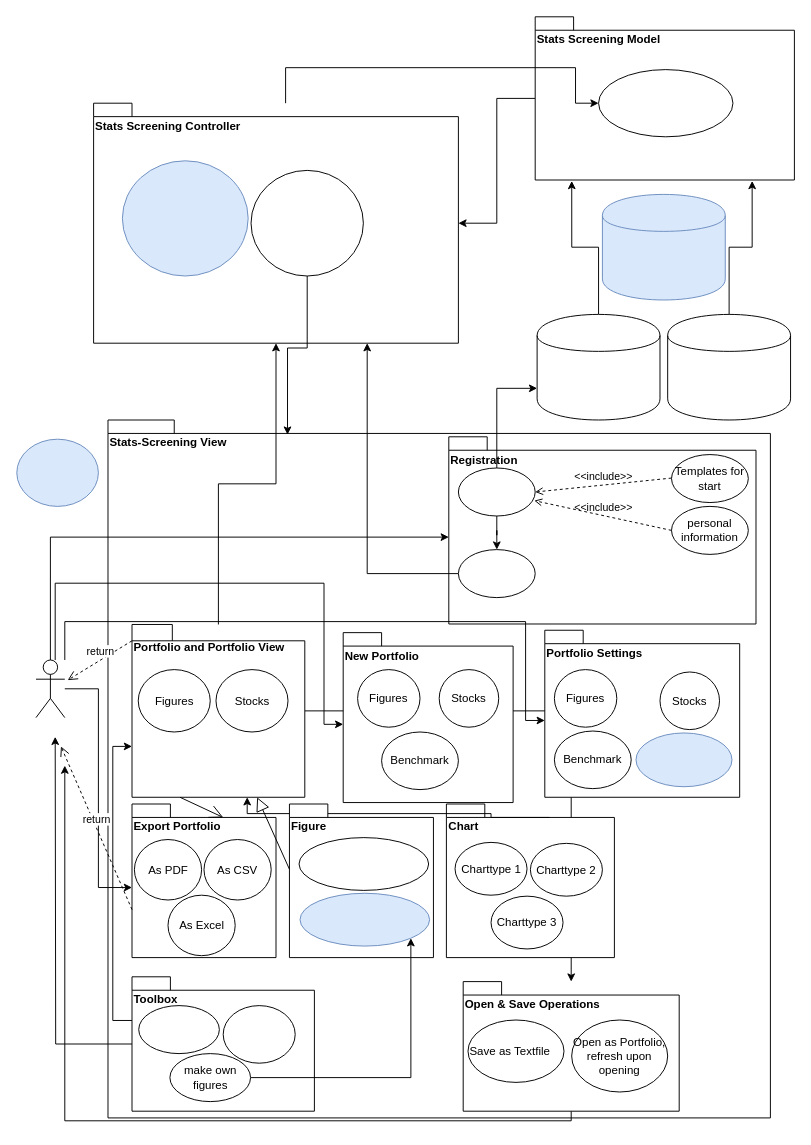
Some shapes in this 811 by 1145 pixel diagram are drawn without their labels. The centre of each missing label's shape, as x and y in pixels:
ActorName: point (50, 688)
API (Google/Yahoo): point (683, 759)
Charts to choose from: point (178, 1029)
create Account: point (496, 491)
Custom made Figures: point (364, 919)
Default Figures: point (363, 863)
Figures to choose from: point (258, 1034)
Get Methods for returning JSON Objects: point (184, 218)
MySQL Database Schema Accounts: point (598, 366)
MySQL Database Schema Custom Figures: point (663, 246)
MySQL Database Schema Portfolio: point (729, 366)
Pandas computations: point (665, 103)
Put Methods for returning JSON Objects from Portfolio: point (306, 222)
register: point (496, 573)
to be done if time remains: point (57, 472)
